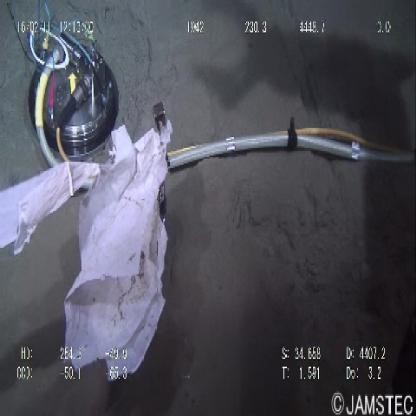Rov: (12, 11, 120, 149)
Rác: (1, 121, 167, 380)
